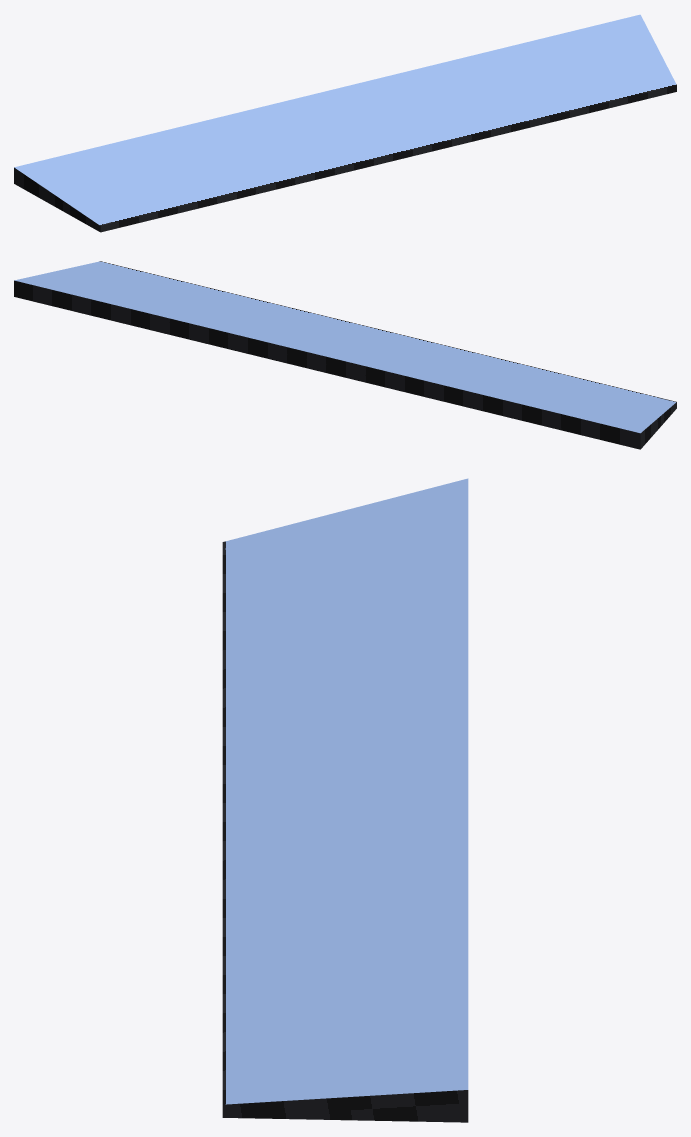
The model's file is spoiler_roof_ext.glb.
The picture shows the model from 3 angles, top to bottom: view 1: azimuth 30°, elevation 25°; view 2: azimuth 150°, elevation 25°; view 3: azimuth 270°, elevation 25°; orthographic projection. The views are drawn at different scales.
Parts seen in each view (by area): view 1: spoiler_roof_ext.001; view 2: spoiler_roof_ext.001; view 3: spoiler_roof_ext.001.
Part boxes in pixels (bbox=[...]): spoiler_roof_ext.001: bbox=[14, 14, 676, 232]; spoiler_roof_ext.001: bbox=[14, 261, 676, 449]; spoiler_roof_ext.001: bbox=[222, 478, 468, 1122].
Bounding box in the file's own units: 1 × 0.04 × 0.17.
Materials: 1 (1 with a texture image).
